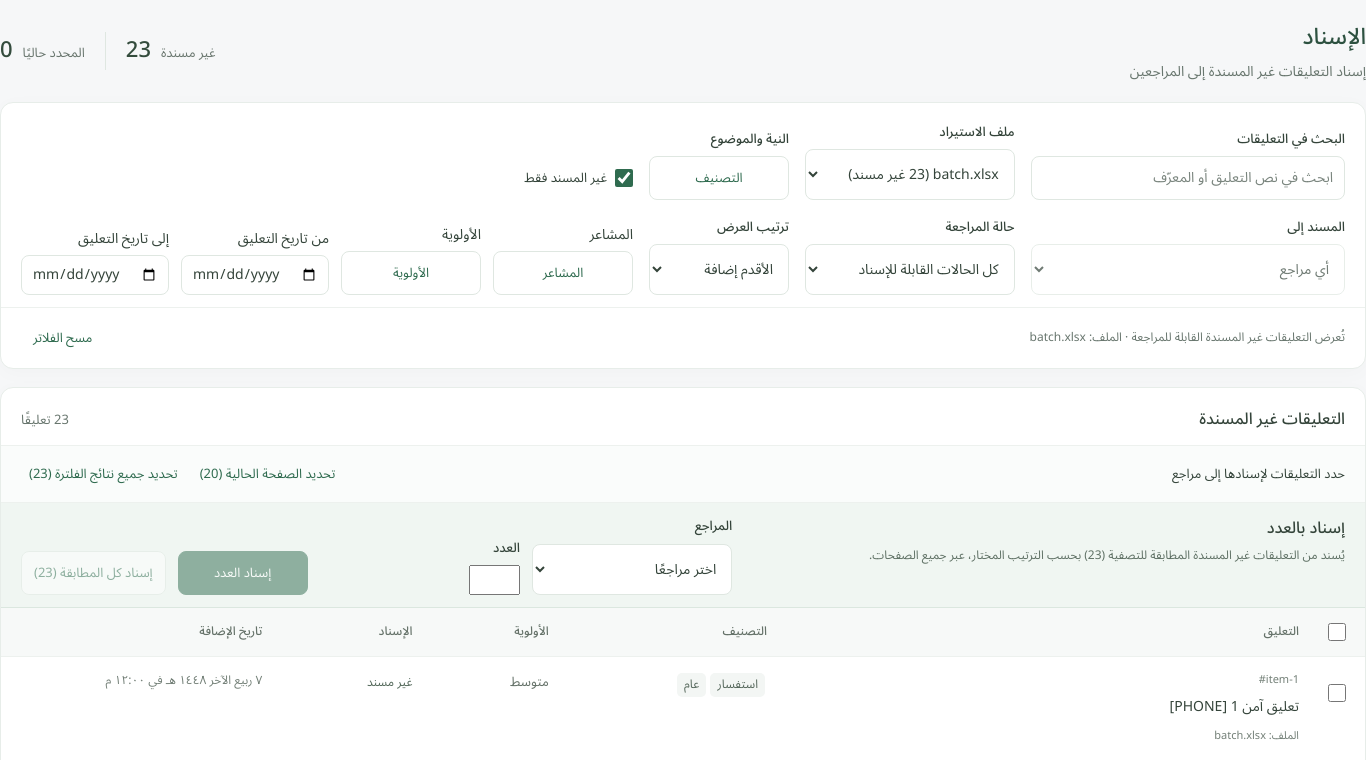
Scenario: Admin Assignment workspace › keeps the unassigned default and source context, and clears selection when filters change
Expected: the field labelled "اختر المراجع" is not shown
Click the checkbox named "تحديد item-1". click: point(1337, 693)
box: [1328,684,1346,702]
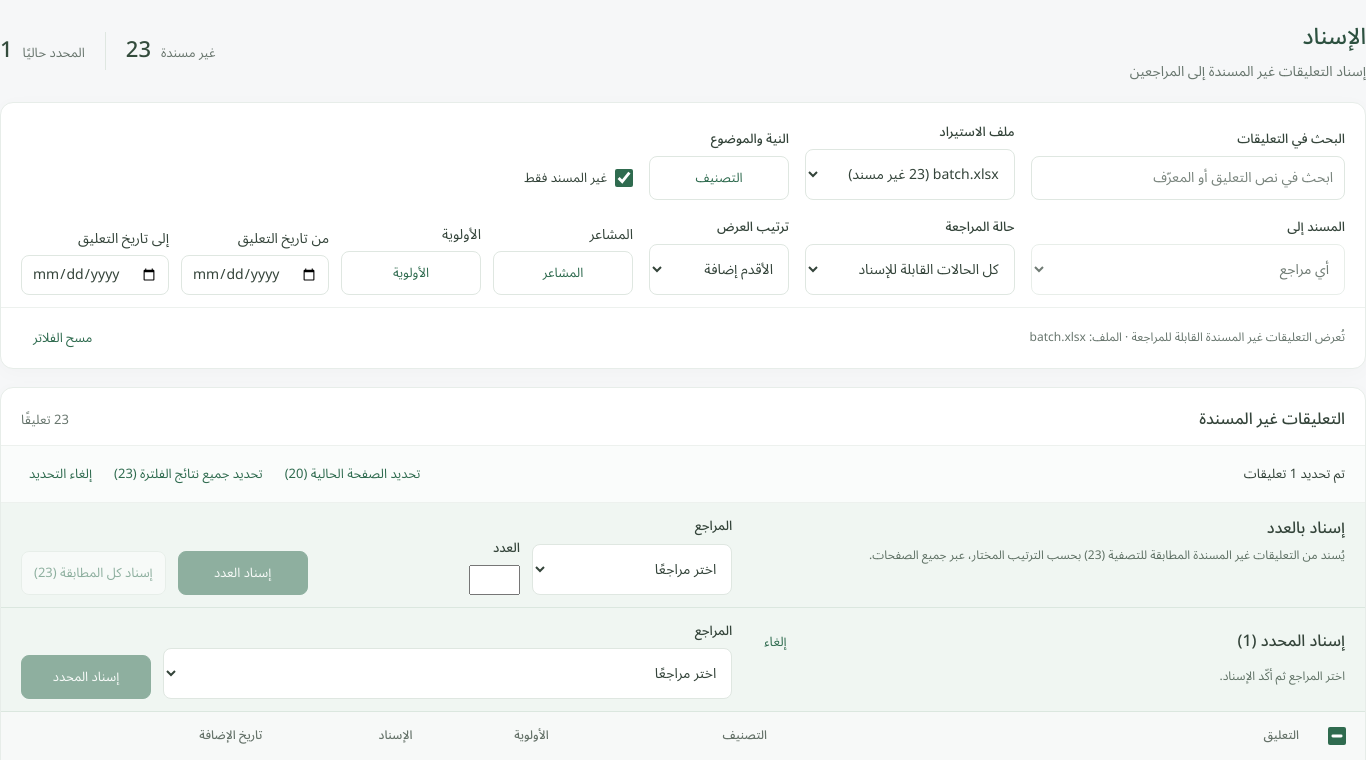
Expected: the button "إسناد المحدد" is disabled, [21,655,151,699]
Type "غير موجود" into the search field labelled "بحث". click: point(1188, 178)
box: [1031,156,1345,200]
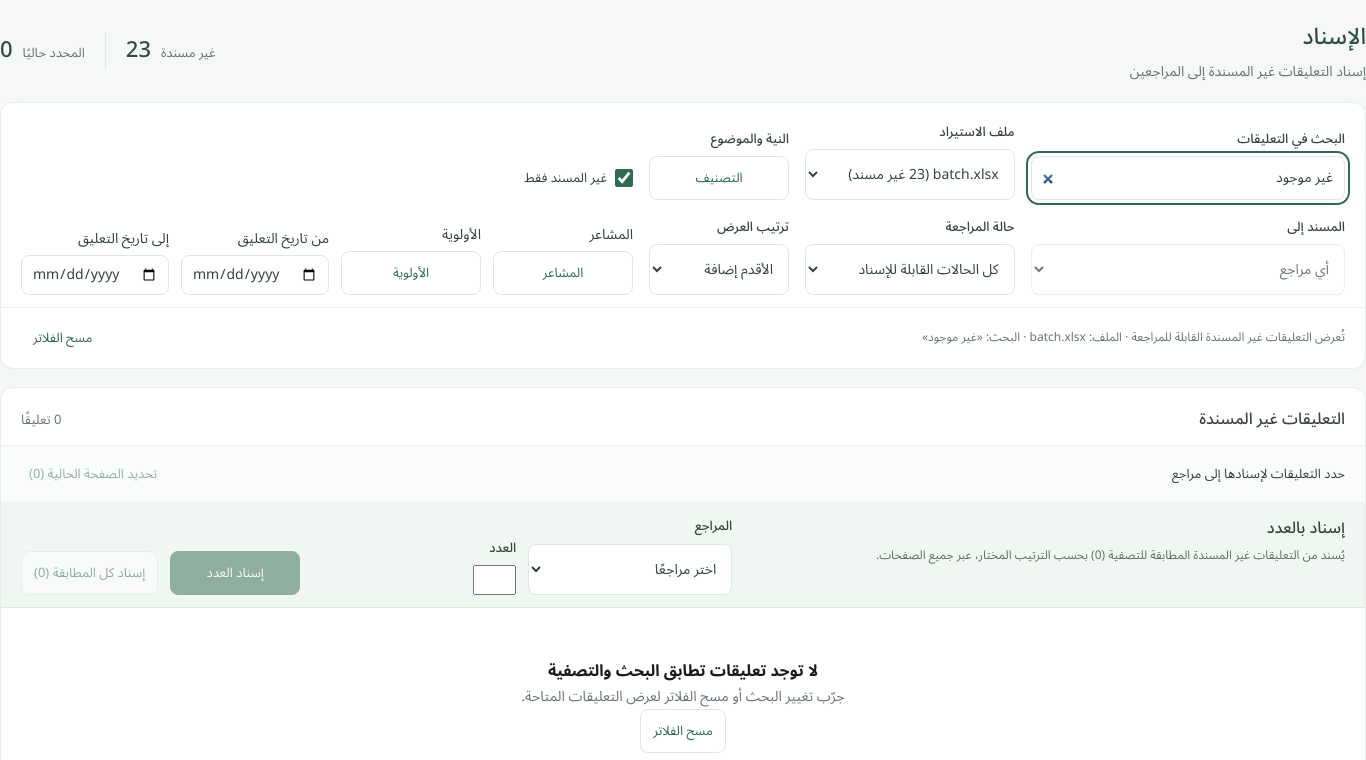
Expected: the text "لا توجد تعليقات تطابق البحث والتصفية" is shown, [548,654,818,688]
Expected: the text labelled "اختر المراجع" is gone
Click the button "مسح الفلاتر" in the row of "غير موجود". click: point(63, 338)
box: [21,316,104,360]
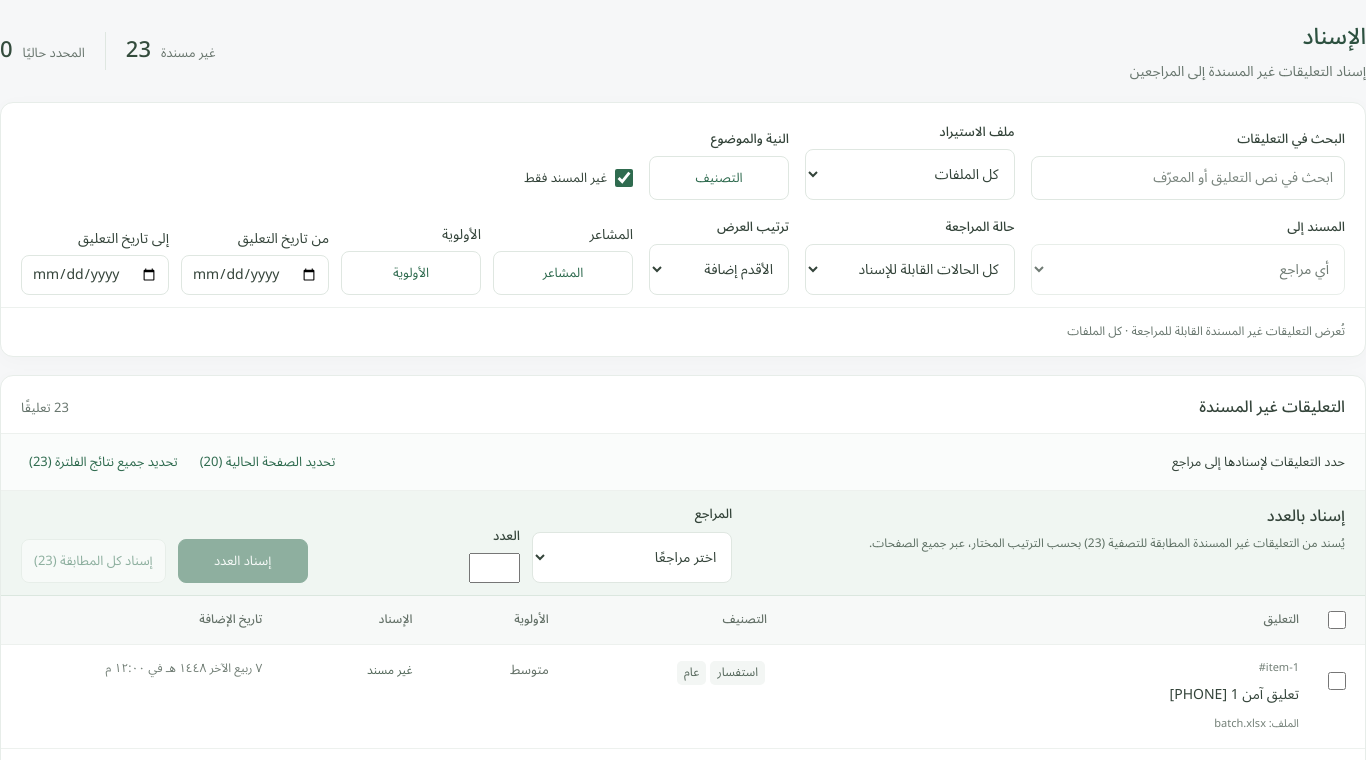
Expected: the checkbox labelled "غير المسند فقط" is checked, [615,169,633,187]
Expected: the checkbox named "تحديد item-1" is shown, [1328,672,1346,690]
Expected: the dropdown named "اختر الملف" shows "كل الملفات", [805,149,1015,200]
